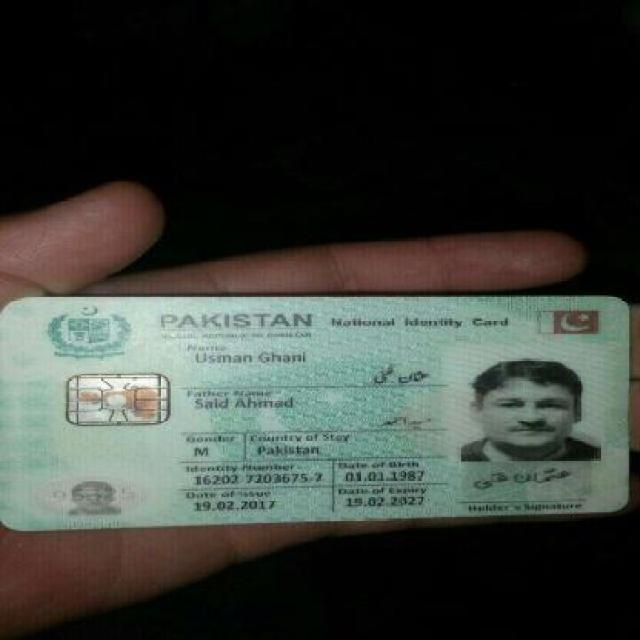Front: (1, 283, 634, 531)
